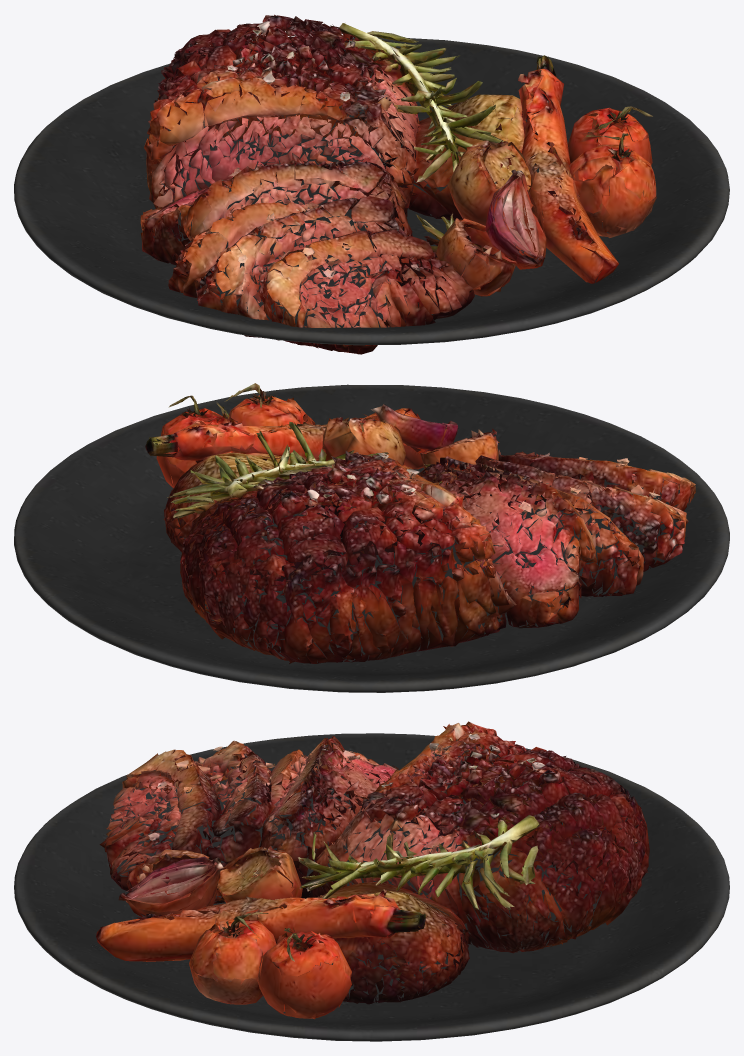
Rendered from dish-picanha.glb.
3 views of the same model, one above another, from view 1: azimuth 30°, elevation 25°; view 2: azimuth 150°, elevation 25°; view 3: azimuth 270°, elevation 25° (orthographic).
Parts seen in each view (by area): view 1: model, plate; view 2: model, plate; view 3: model, plate.
Part boxes in pixels (bbox=[...]): model: bbox=[140, 14, 656, 354]; plate: bbox=[14, 37, 729, 345]; model: bbox=[145, 383, 695, 663]; plate: bbox=[14, 384, 729, 692]; model: bbox=[96, 721, 649, 1019]; plate: bbox=[14, 733, 729, 1041].
Bounding box in the file's own units: 0.3 × 0.073 × 0.3.
2 materials, 2 textured.
